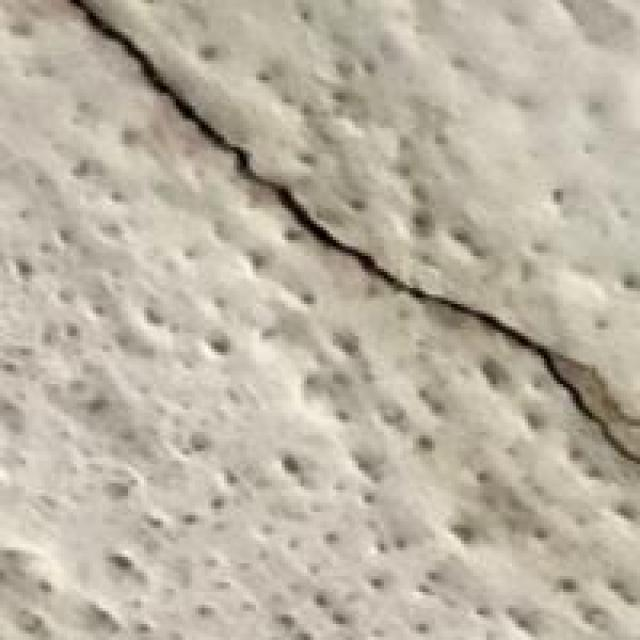Crack: (42, 0, 637, 464)
